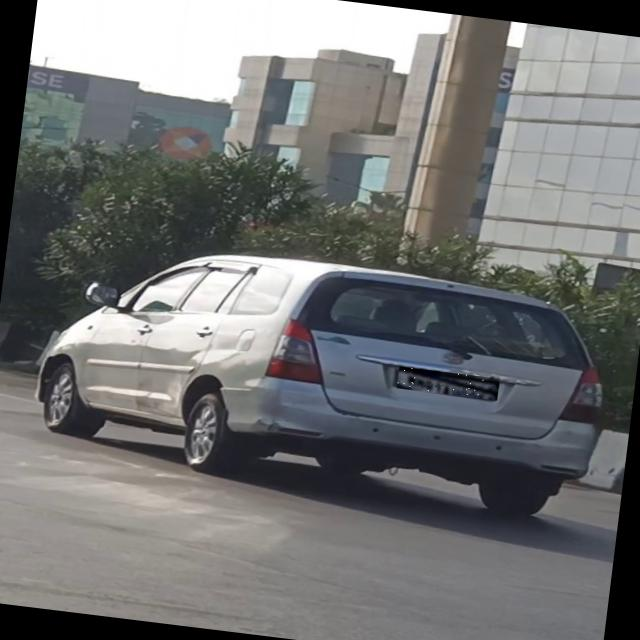Plate: (398, 367, 501, 401)
